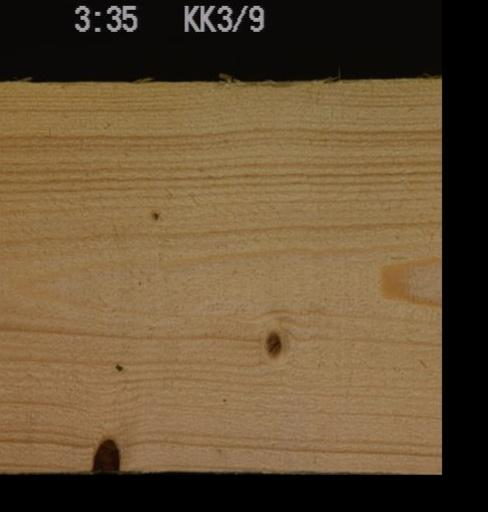small_knot: (148, 208, 161, 220)
sound_knot: (261, 328, 283, 358)
